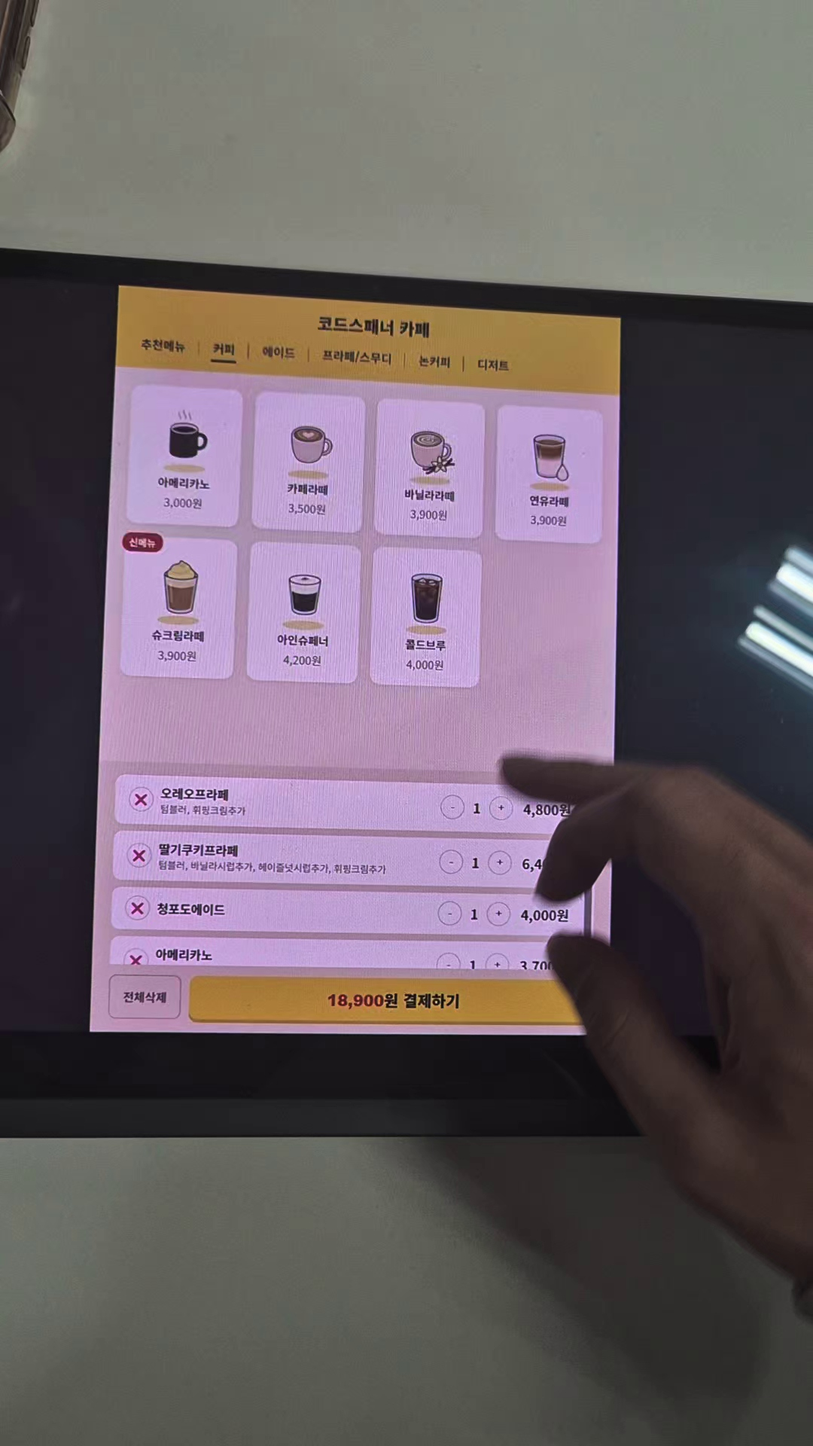action_button: (189, 976, 593, 1025), (109, 975, 180, 1018)
cart_item: (115, 775, 581, 834), (113, 831, 582, 889), (111, 887, 583, 936), (111, 937, 583, 970)
category_tab: (320, 347, 393, 367), (138, 334, 189, 357), (259, 343, 298, 361), (415, 353, 451, 371), (475, 357, 510, 374), (210, 340, 236, 357)
menu_back: (119, 532, 238, 680), (126, 383, 243, 527), (252, 390, 366, 535), (246, 542, 361, 683), (370, 546, 482, 688), (375, 399, 485, 538), (496, 407, 604, 543)
menu_name: (156, 475, 211, 492), (403, 487, 456, 504), (277, 632, 330, 649), (151, 628, 205, 644), (404, 636, 447, 652), (286, 482, 328, 498), (530, 494, 570, 509)
menu_price: (161, 496, 202, 511), (408, 508, 448, 523), (157, 648, 199, 662), (282, 653, 323, 667), (405, 658, 445, 672), (287, 502, 326, 516), (529, 514, 567, 528)
